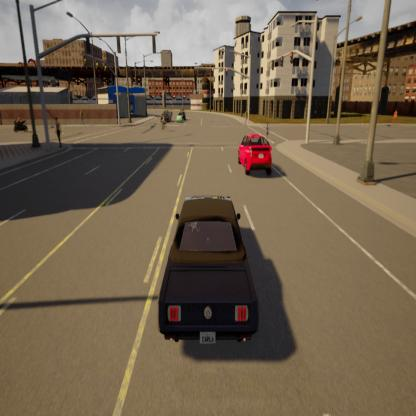Cars: (157, 197, 258, 348), (238, 132, 274, 180), (12, 112, 28, 138), (176, 111, 184, 127)
Pedestrian: (54, 119, 62, 148)
